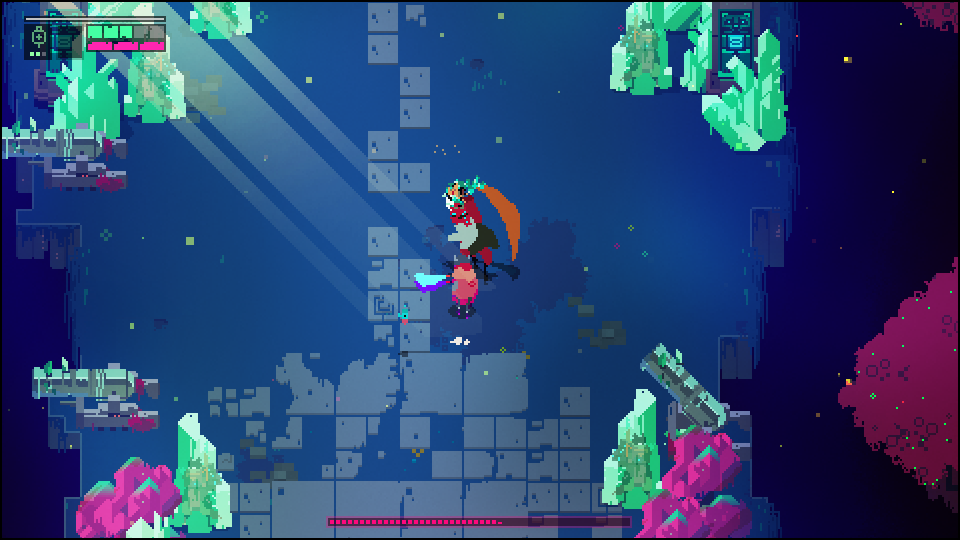hanged_man: (438, 175, 506, 286)
player: (412, 250, 478, 319)
